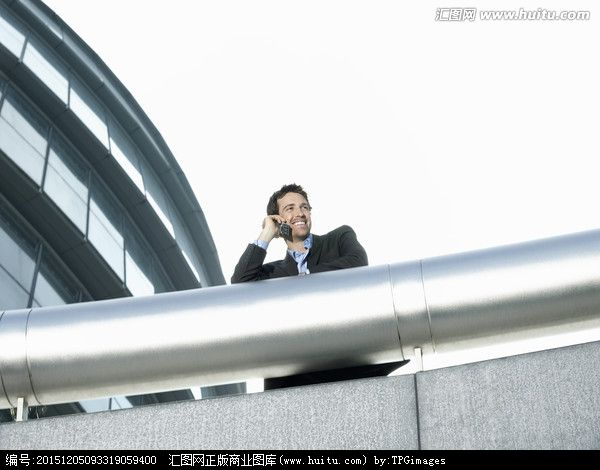phone: (265, 212, 297, 243)
talk: (254, 199, 321, 255)
